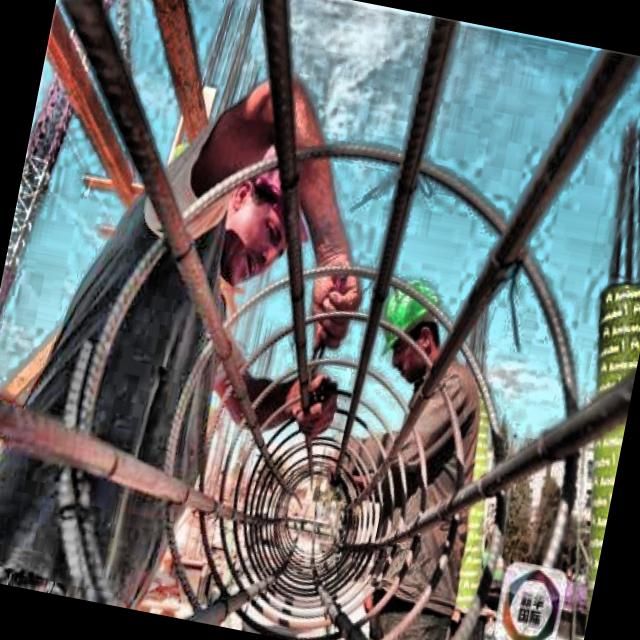helmet: (210, 134, 326, 294), (369, 270, 458, 386)
